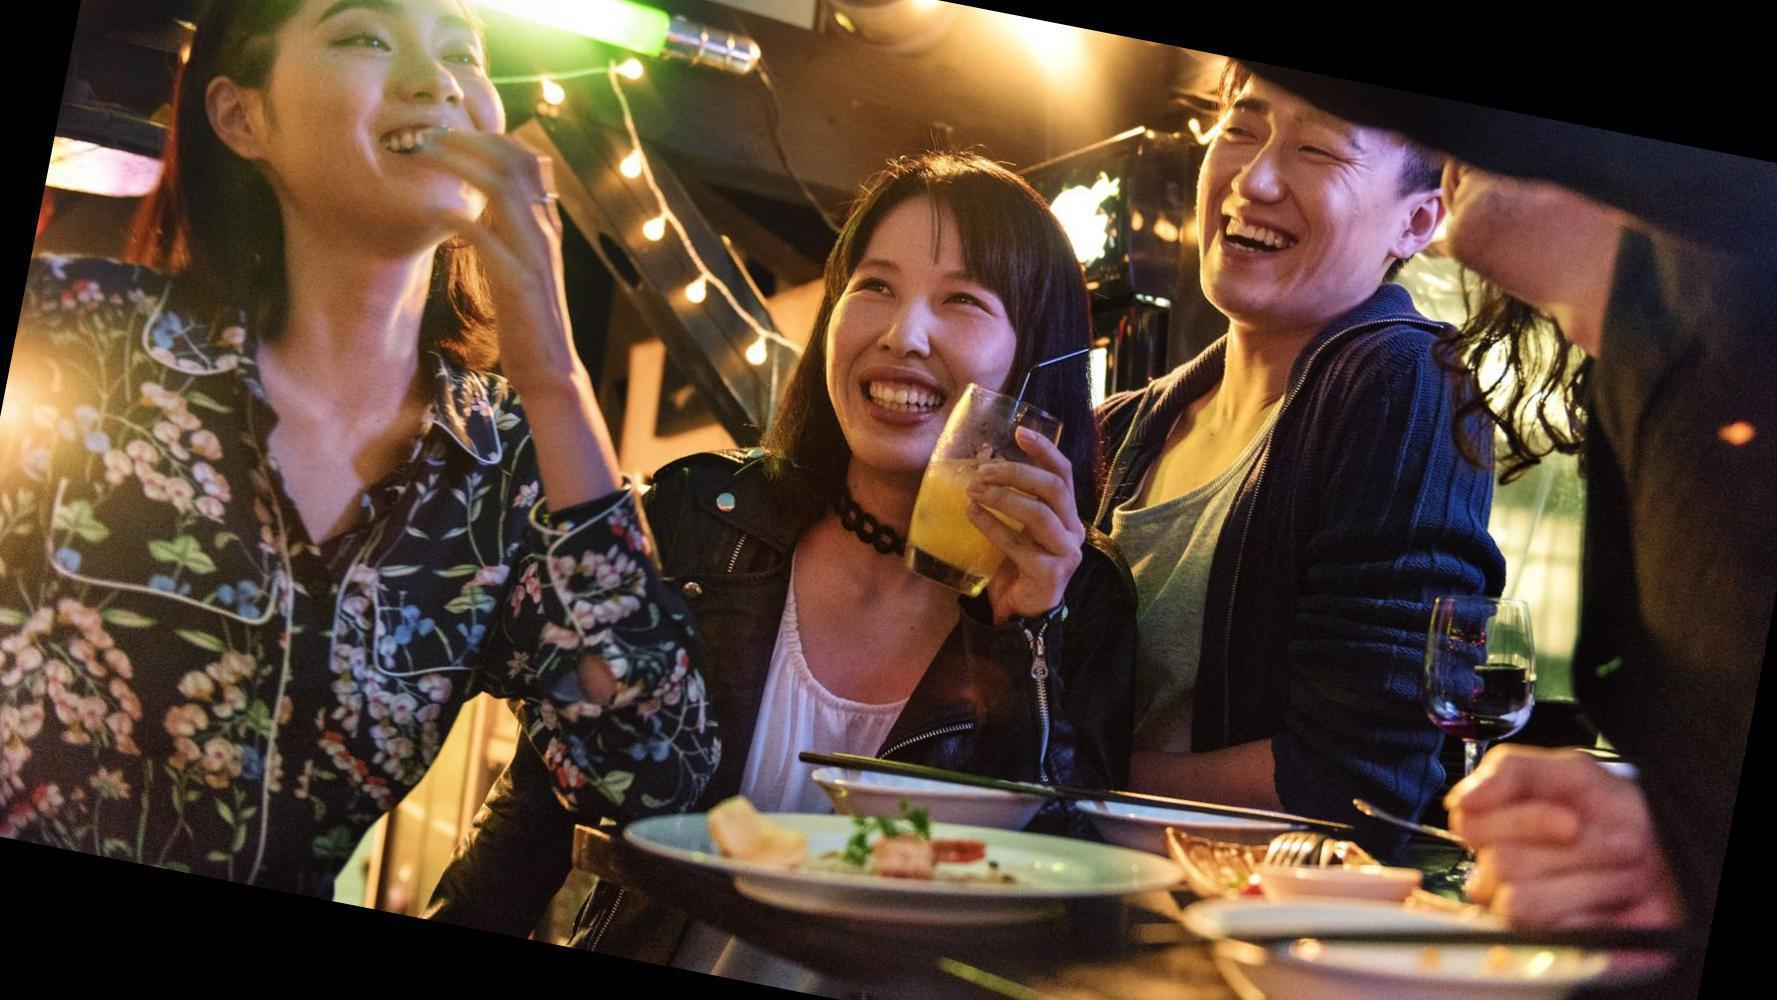Drunk: (823, 186, 1017, 455), (301, 0, 503, 223), (1203, 84, 1374, 322)
